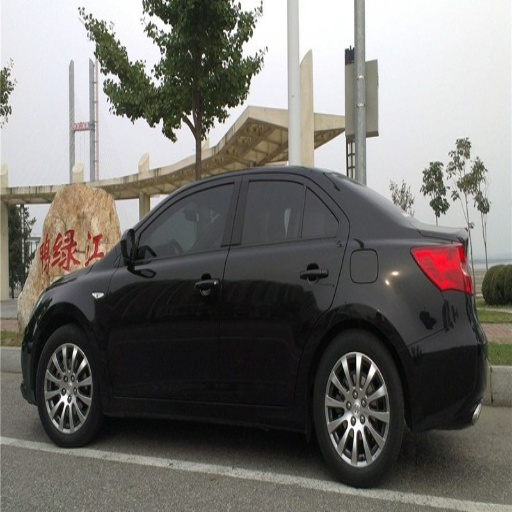back_left_door: (223, 173, 347, 404)
